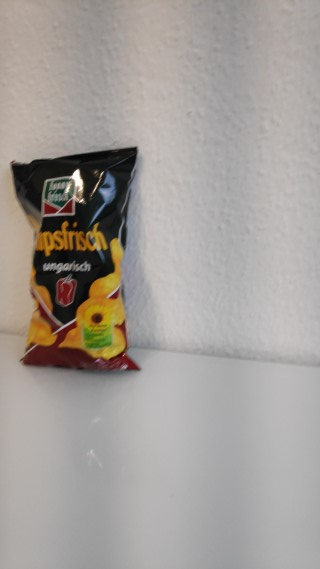chipsfrisch: (8, 144, 143, 373)
